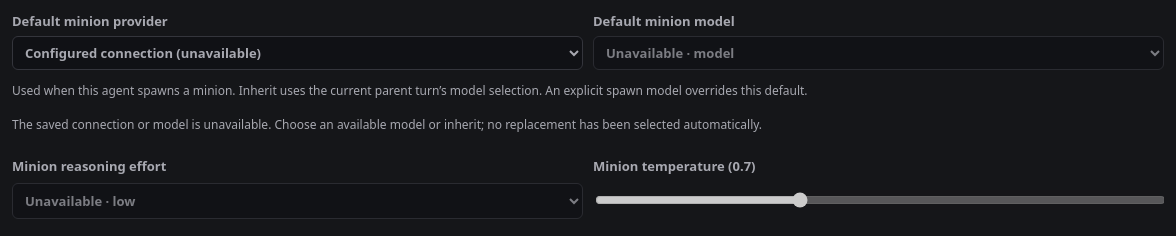
Test: Default minion provider autosave › keeps unavailable loaded identity and autosaves inherit without substituting it
The width and height of the screenshot is (1176, 236).
Expected: the dropdown labelled "Default minion model" shows "Unavailable · model", x1=593 y1=36 x2=1164 y2=70
Select "Inherit current parent turn" in the dropdown labelled "Default minion provider" at (298, 53), box x1=12 y1=36 x2=583 y2=70
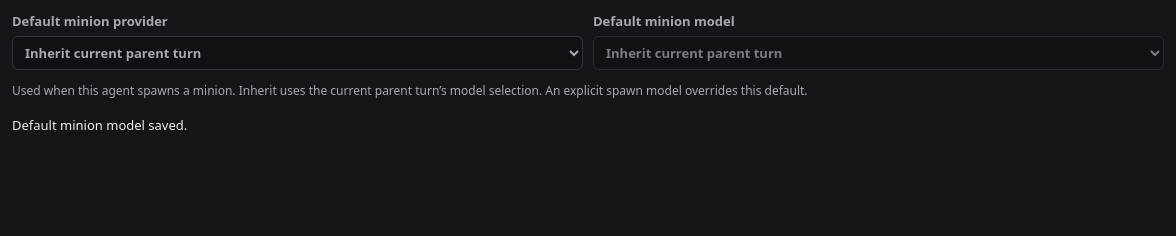
Now the text "Default minion model saved." is shown, box x1=12 y1=116 x2=187 y2=134
